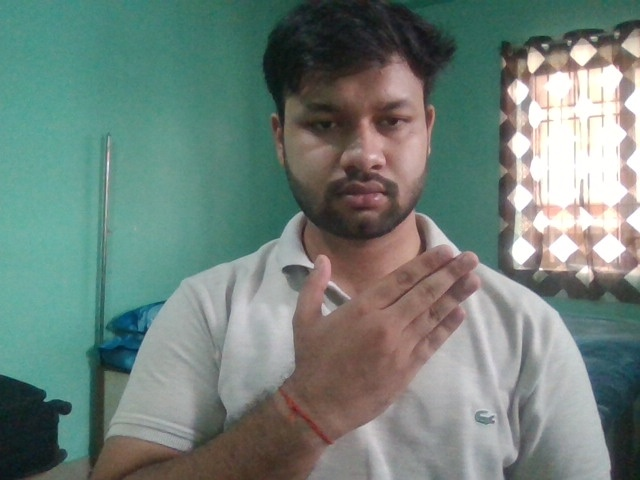Please: (283, 243, 483, 433)
